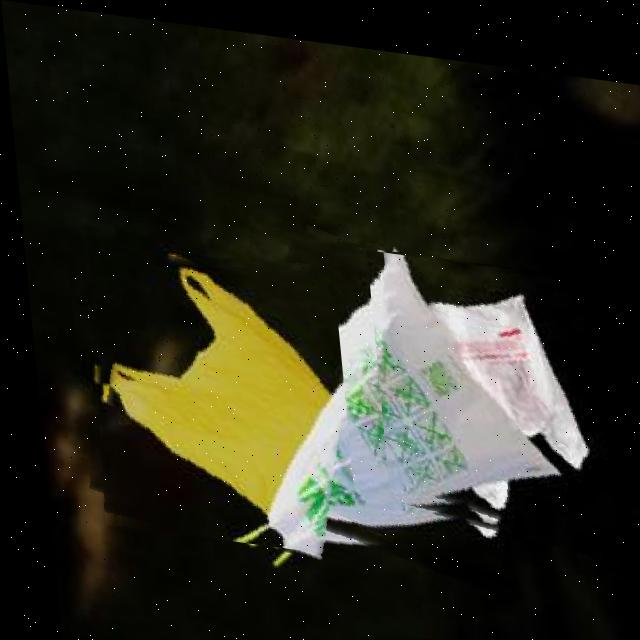litter: (243, 226, 589, 590), (71, 229, 349, 550), (361, 240, 610, 537)
